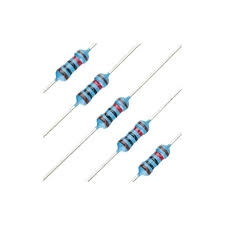resistor: (44, 37, 102, 97), (64, 60, 122, 120), (85, 82, 143, 142), (103, 107, 161, 167), (124, 131, 182, 191)
